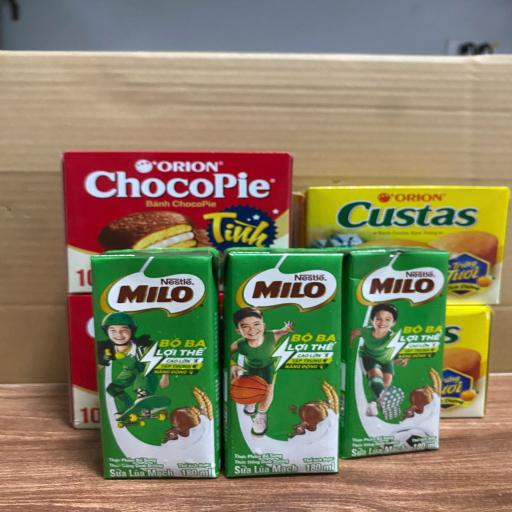chocopie: (62, 151, 293, 294), (67, 292, 101, 430)
custas: (303, 186, 509, 306), (440, 304, 493, 418)
milo: (89, 247, 222, 479), (222, 247, 345, 479), (331, 246, 451, 460)
